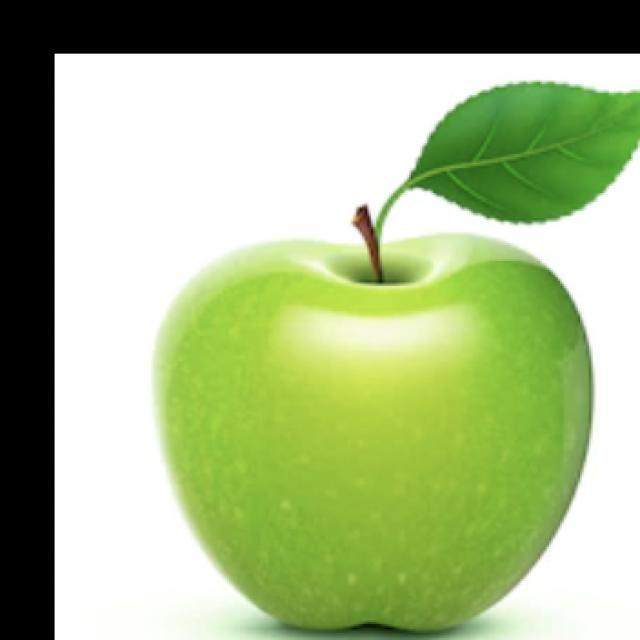Fresh Apple: (144, 84, 597, 640)
